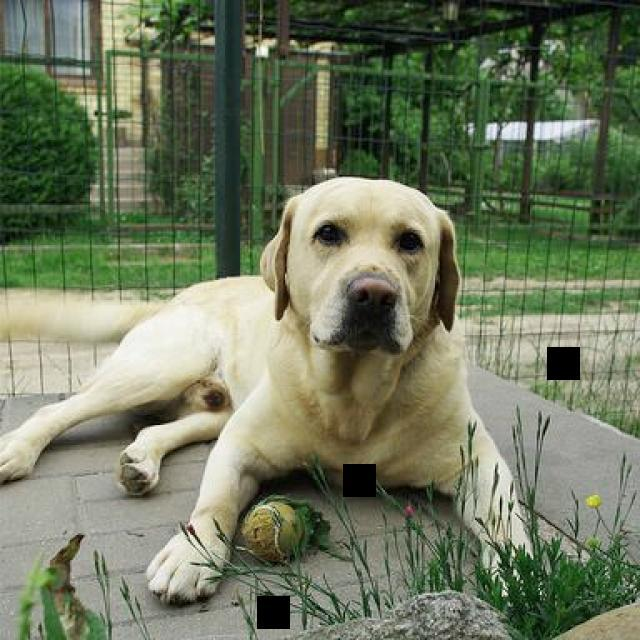adult_dog: (0, 175, 522, 606)
